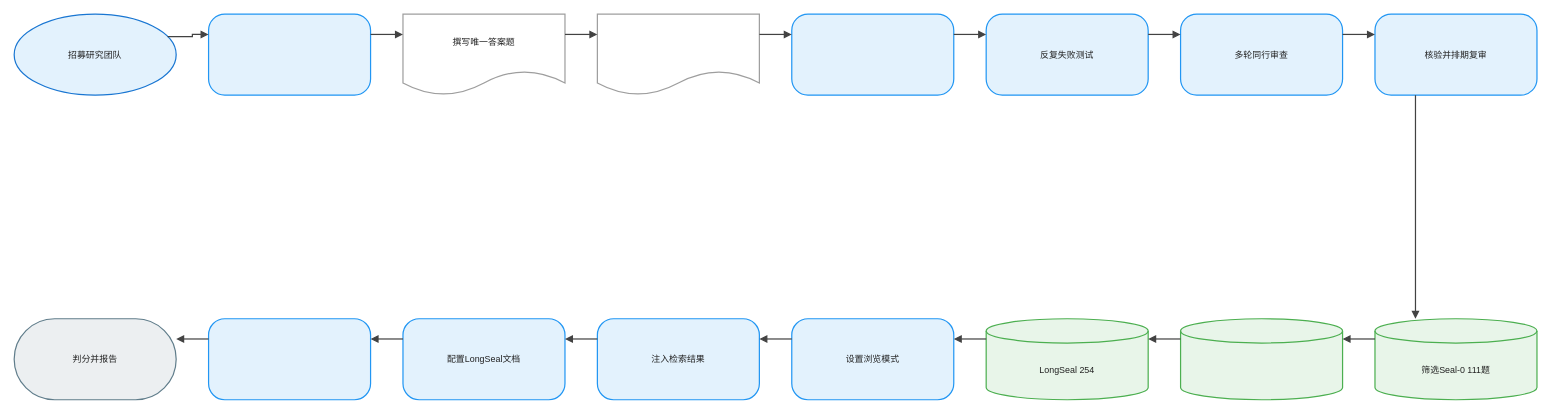
Image size: 1552x415. Some labels were removed from this diagram. The centre of each missing label's shape, as x and y in pixels:
Seal-Hard 254: pixel 1261 359
定义五类问题: pixel 289 54
标注新鲜度: pixel 872 54
运行模型: pixel 289 359
附来源与解释: pixel 678 54
